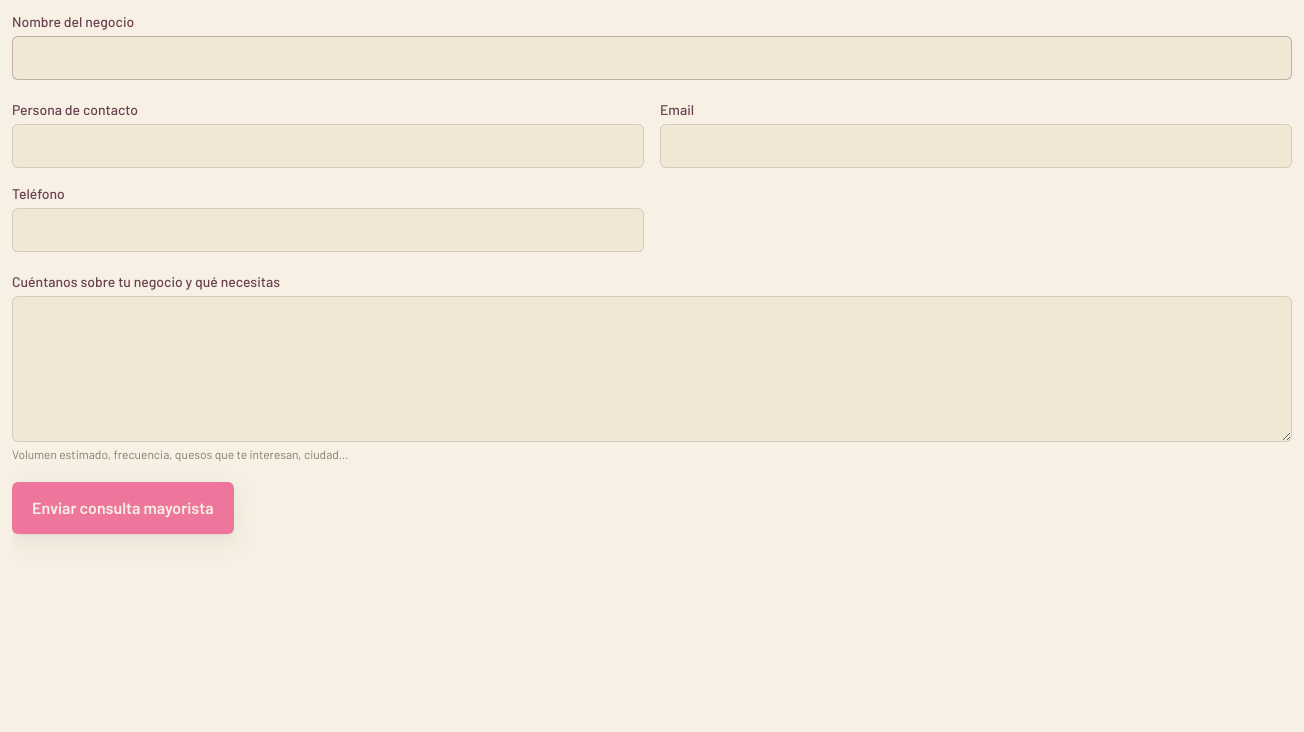
Scenario: WholesaleForm › flags required fields
Step 1. Click the button "Enviar consulta mayorista" → [123, 508], box [12,482,234,534]
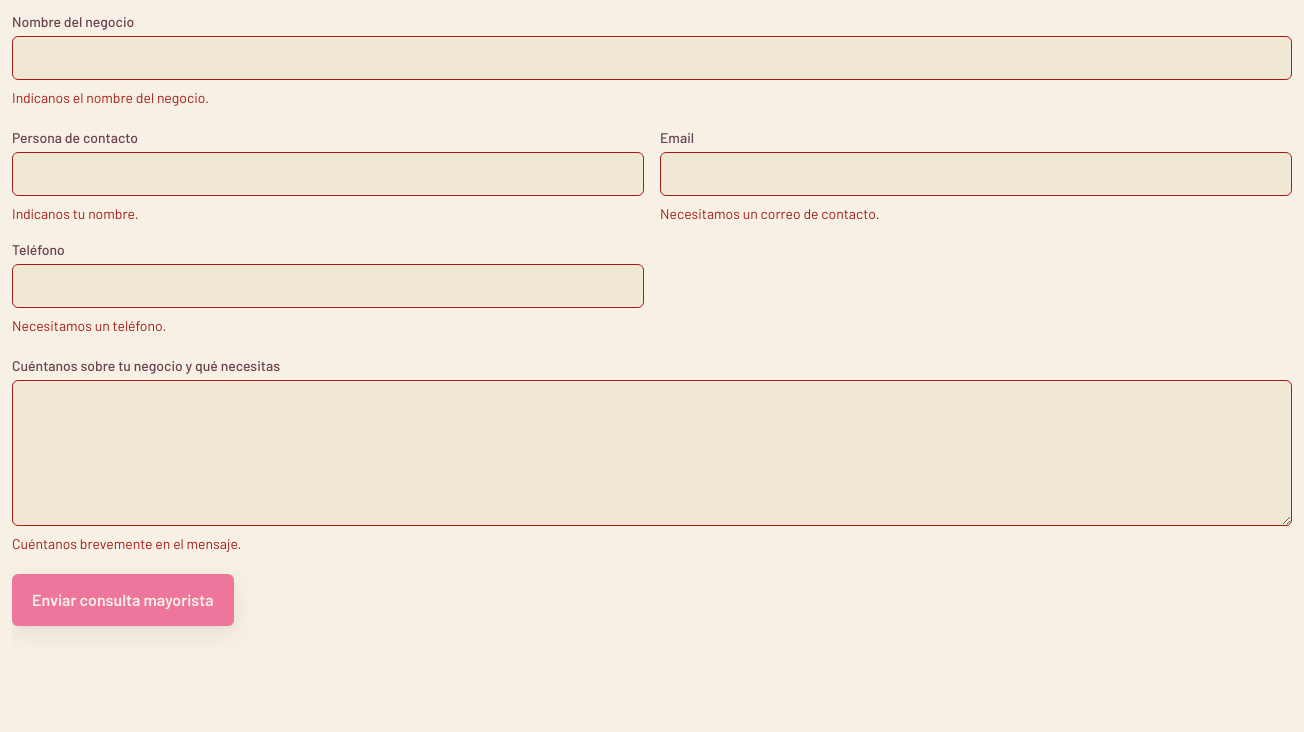
expect the text "Indícanos el nombre del negocio." is shown: met, box [12,89,209,106]
